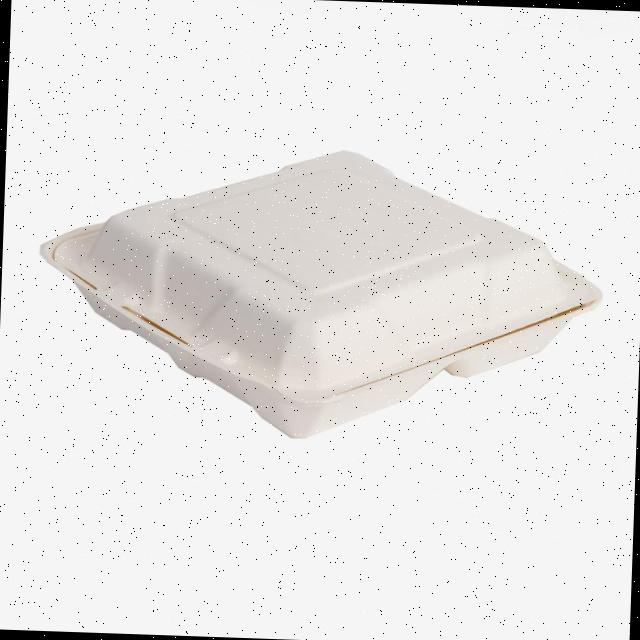styrofoam: (32, 137, 608, 449)
